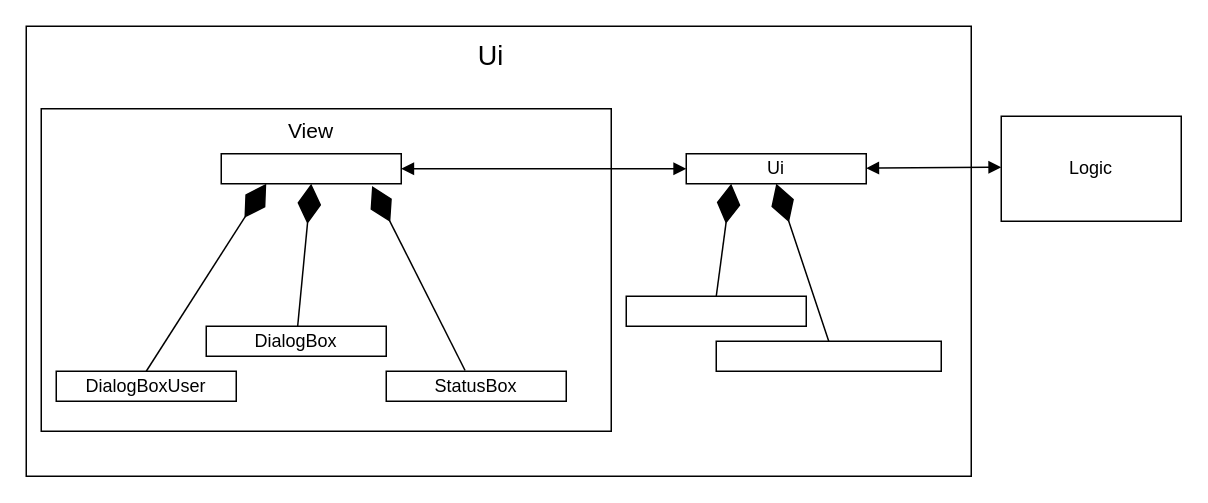
Image size: 1208x503. Some labels were removed from this diagram. The box of each missing label's shape, as (x1, y1, x2, y2) in pixels:
AnimationTimerController: (715, 340, 941, 371)
MainWindow: (220, 152, 401, 184)
MusicController: (625, 295, 806, 326)
